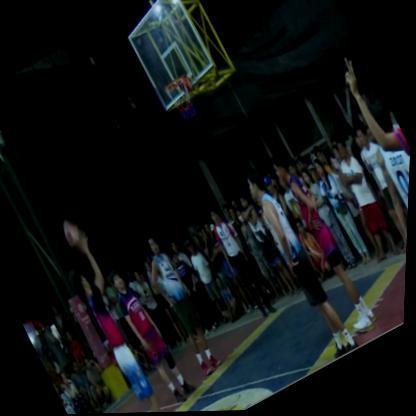basketball: (57, 211, 95, 258)
rim: (151, 62, 212, 134)
